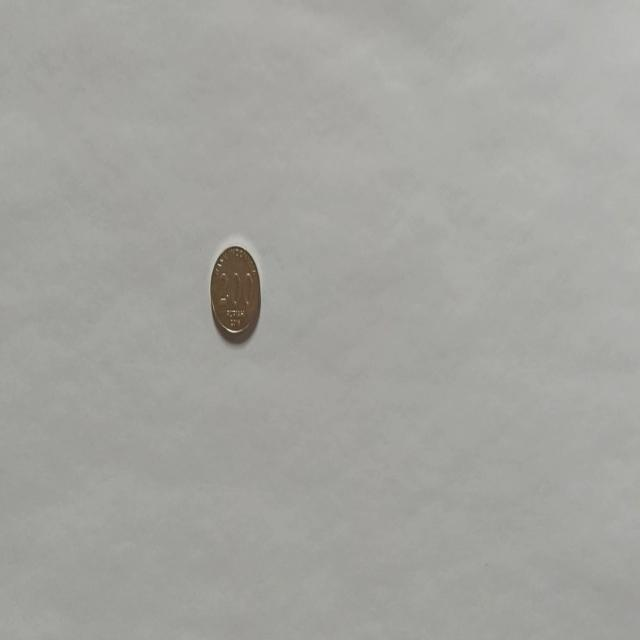dua ratus rupiah: (209, 242, 261, 340)
